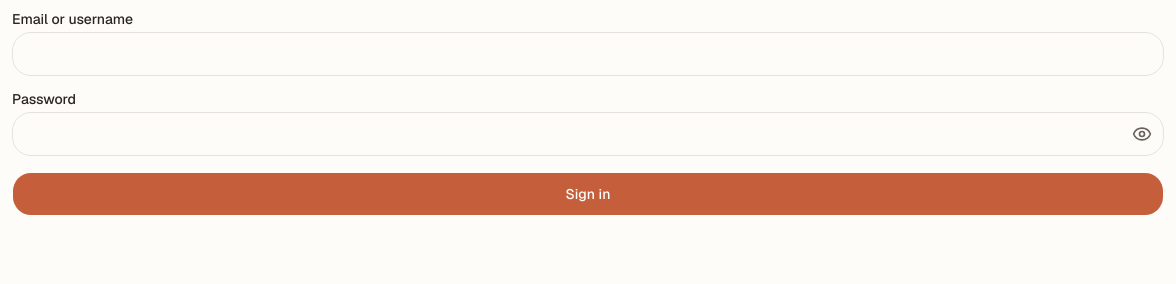
Test: LoginForm › displays server errors
Type "x@y.z" into the field labelled "Email or username" at (588, 54), box [12,32,1164,76]
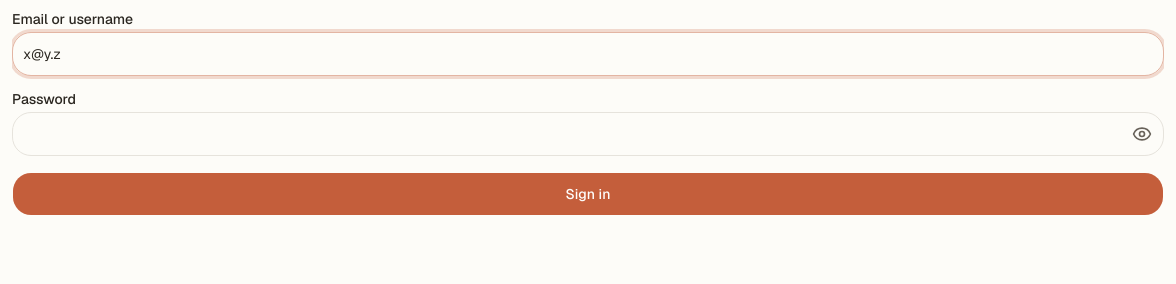
Type "bad" into the password field labelled "Password" at (588, 134), box [12,112,1164,156]
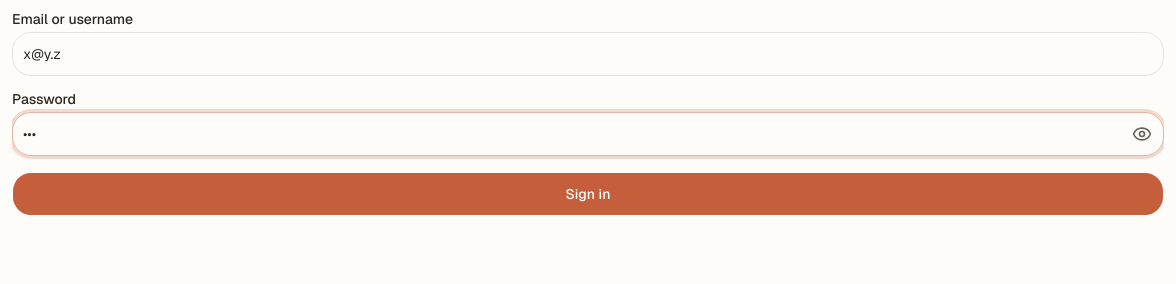
Click the button "Sign in" at (588, 194), box [12,172,1164,216]
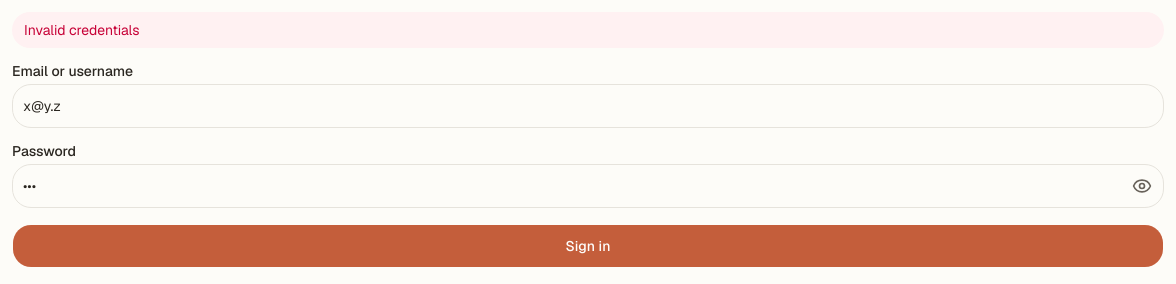
Expected: the message reads "Invalid credentials", [24,21,140,39]
